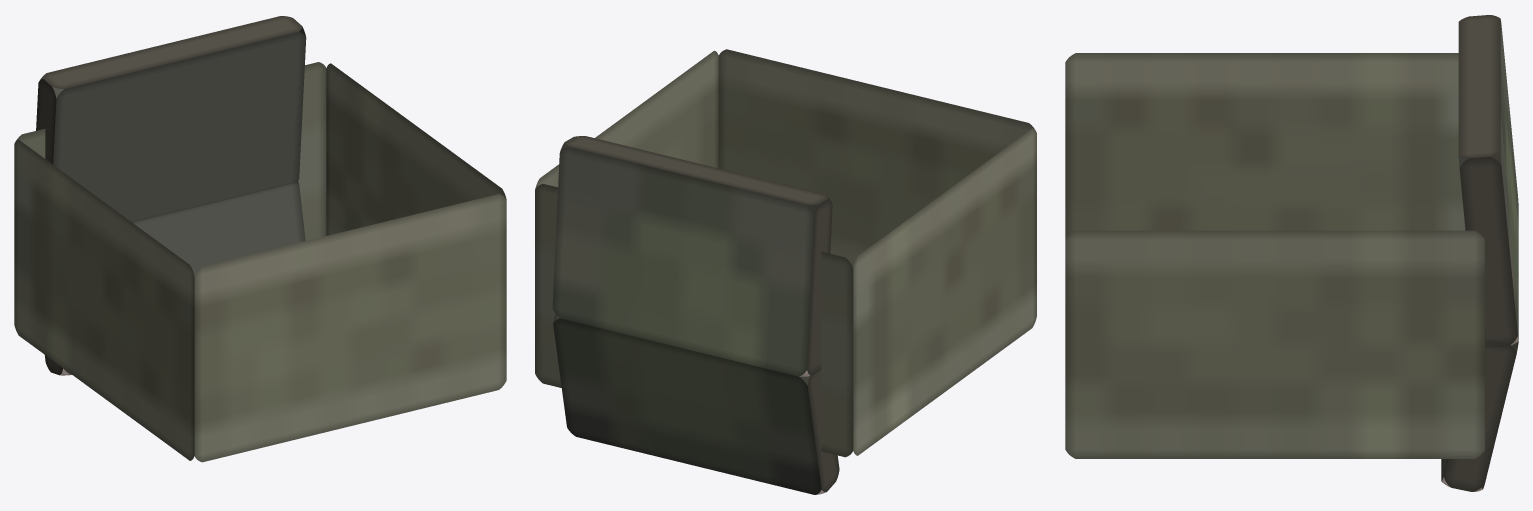
File: osprey_p_l.obj
3 renders of one model, left to right at view 1: azimuth 30°, elevation 25°; view 2: azimuth 150°, elevation 25°; view 3: azimuth 270°, elevation 25°, orthographic. The views are drawn at different scales.
Parts seen in each view (by area): view 1: mesh; view 2: mesh; view 3: mesh.
Boxes of the visible parts, box(x1,y1,x2,y2) form: mesh: box(14, 16, 506, 462); mesh: box(535, 49, 1036, 494); mesh: box(1065, 15, 1518, 491).
Size of the model in its own units: 0.3125 by 0.2777 by 0.3375.
